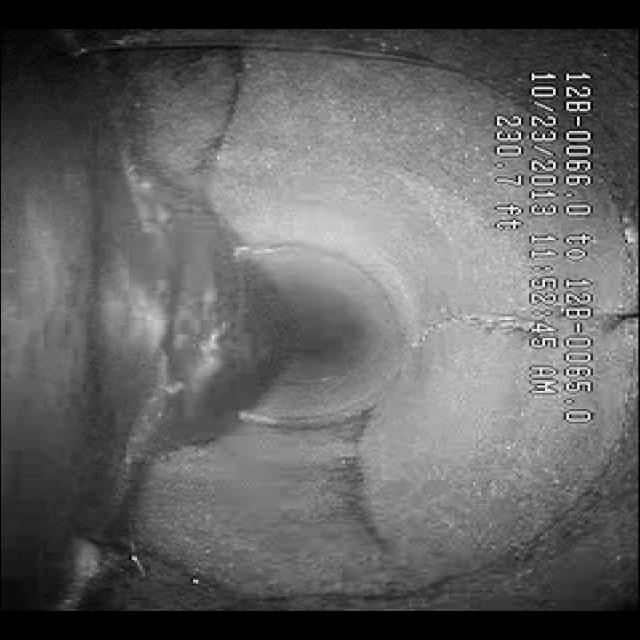Fracture: (402, 293, 628, 362), (159, 52, 258, 200), (320, 401, 396, 577)
